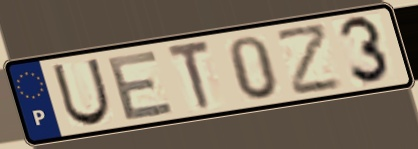0: (225, 34, 282, 101)
3: (336, 13, 395, 88)
E: (105, 47, 178, 123)
T: (164, 37, 214, 114)
U: (49, 56, 114, 128)
Z: (273, 20, 346, 98)
